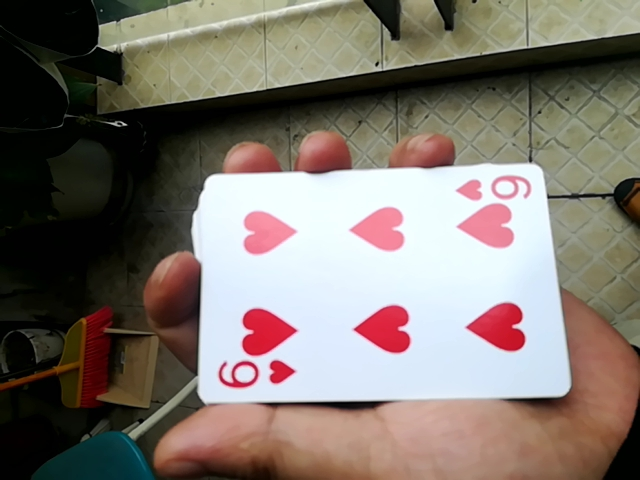hx 6: (186, 164, 566, 410)
